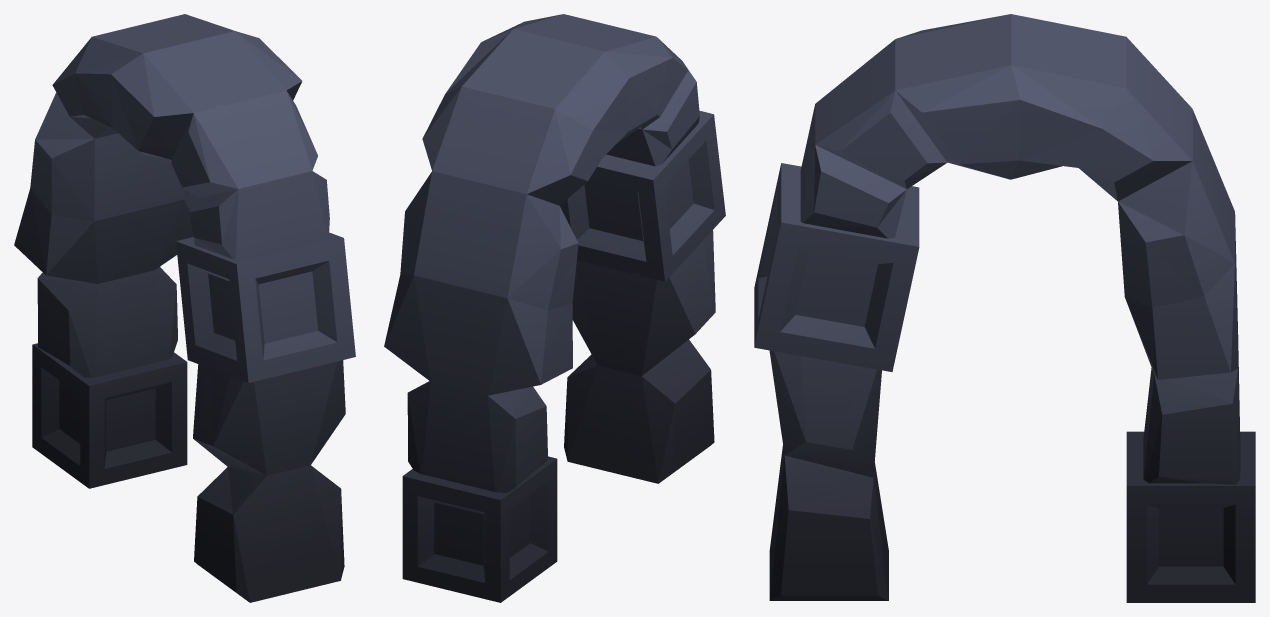
File: SM_Rock_Arc_4.fbx
The picture shows the model from 3 angles, left to right: view 1: azimuth 30°, elevation 25°; view 2: azimuth 150°, elevation 25°; view 3: azimuth 270°, elevation 25°; orthographic projection. The views are drawn at different scales.
Parts seen in each view (by area): view 1: Rock_Arc_6; view 2: Rock_Arc_6; view 3: Rock_Arc_6.
Boxes of the visible parts, box(x1,y1,x2,y2) form: Rock_Arc_6: box(14, 14, 355, 602); Rock_Arc_6: box(384, 14, 725, 602); Rock_Arc_6: box(754, 14, 1255, 602).
Bounding box in the file's own units: 68.19 × 196 × 166.
1 material, 1 textured.
